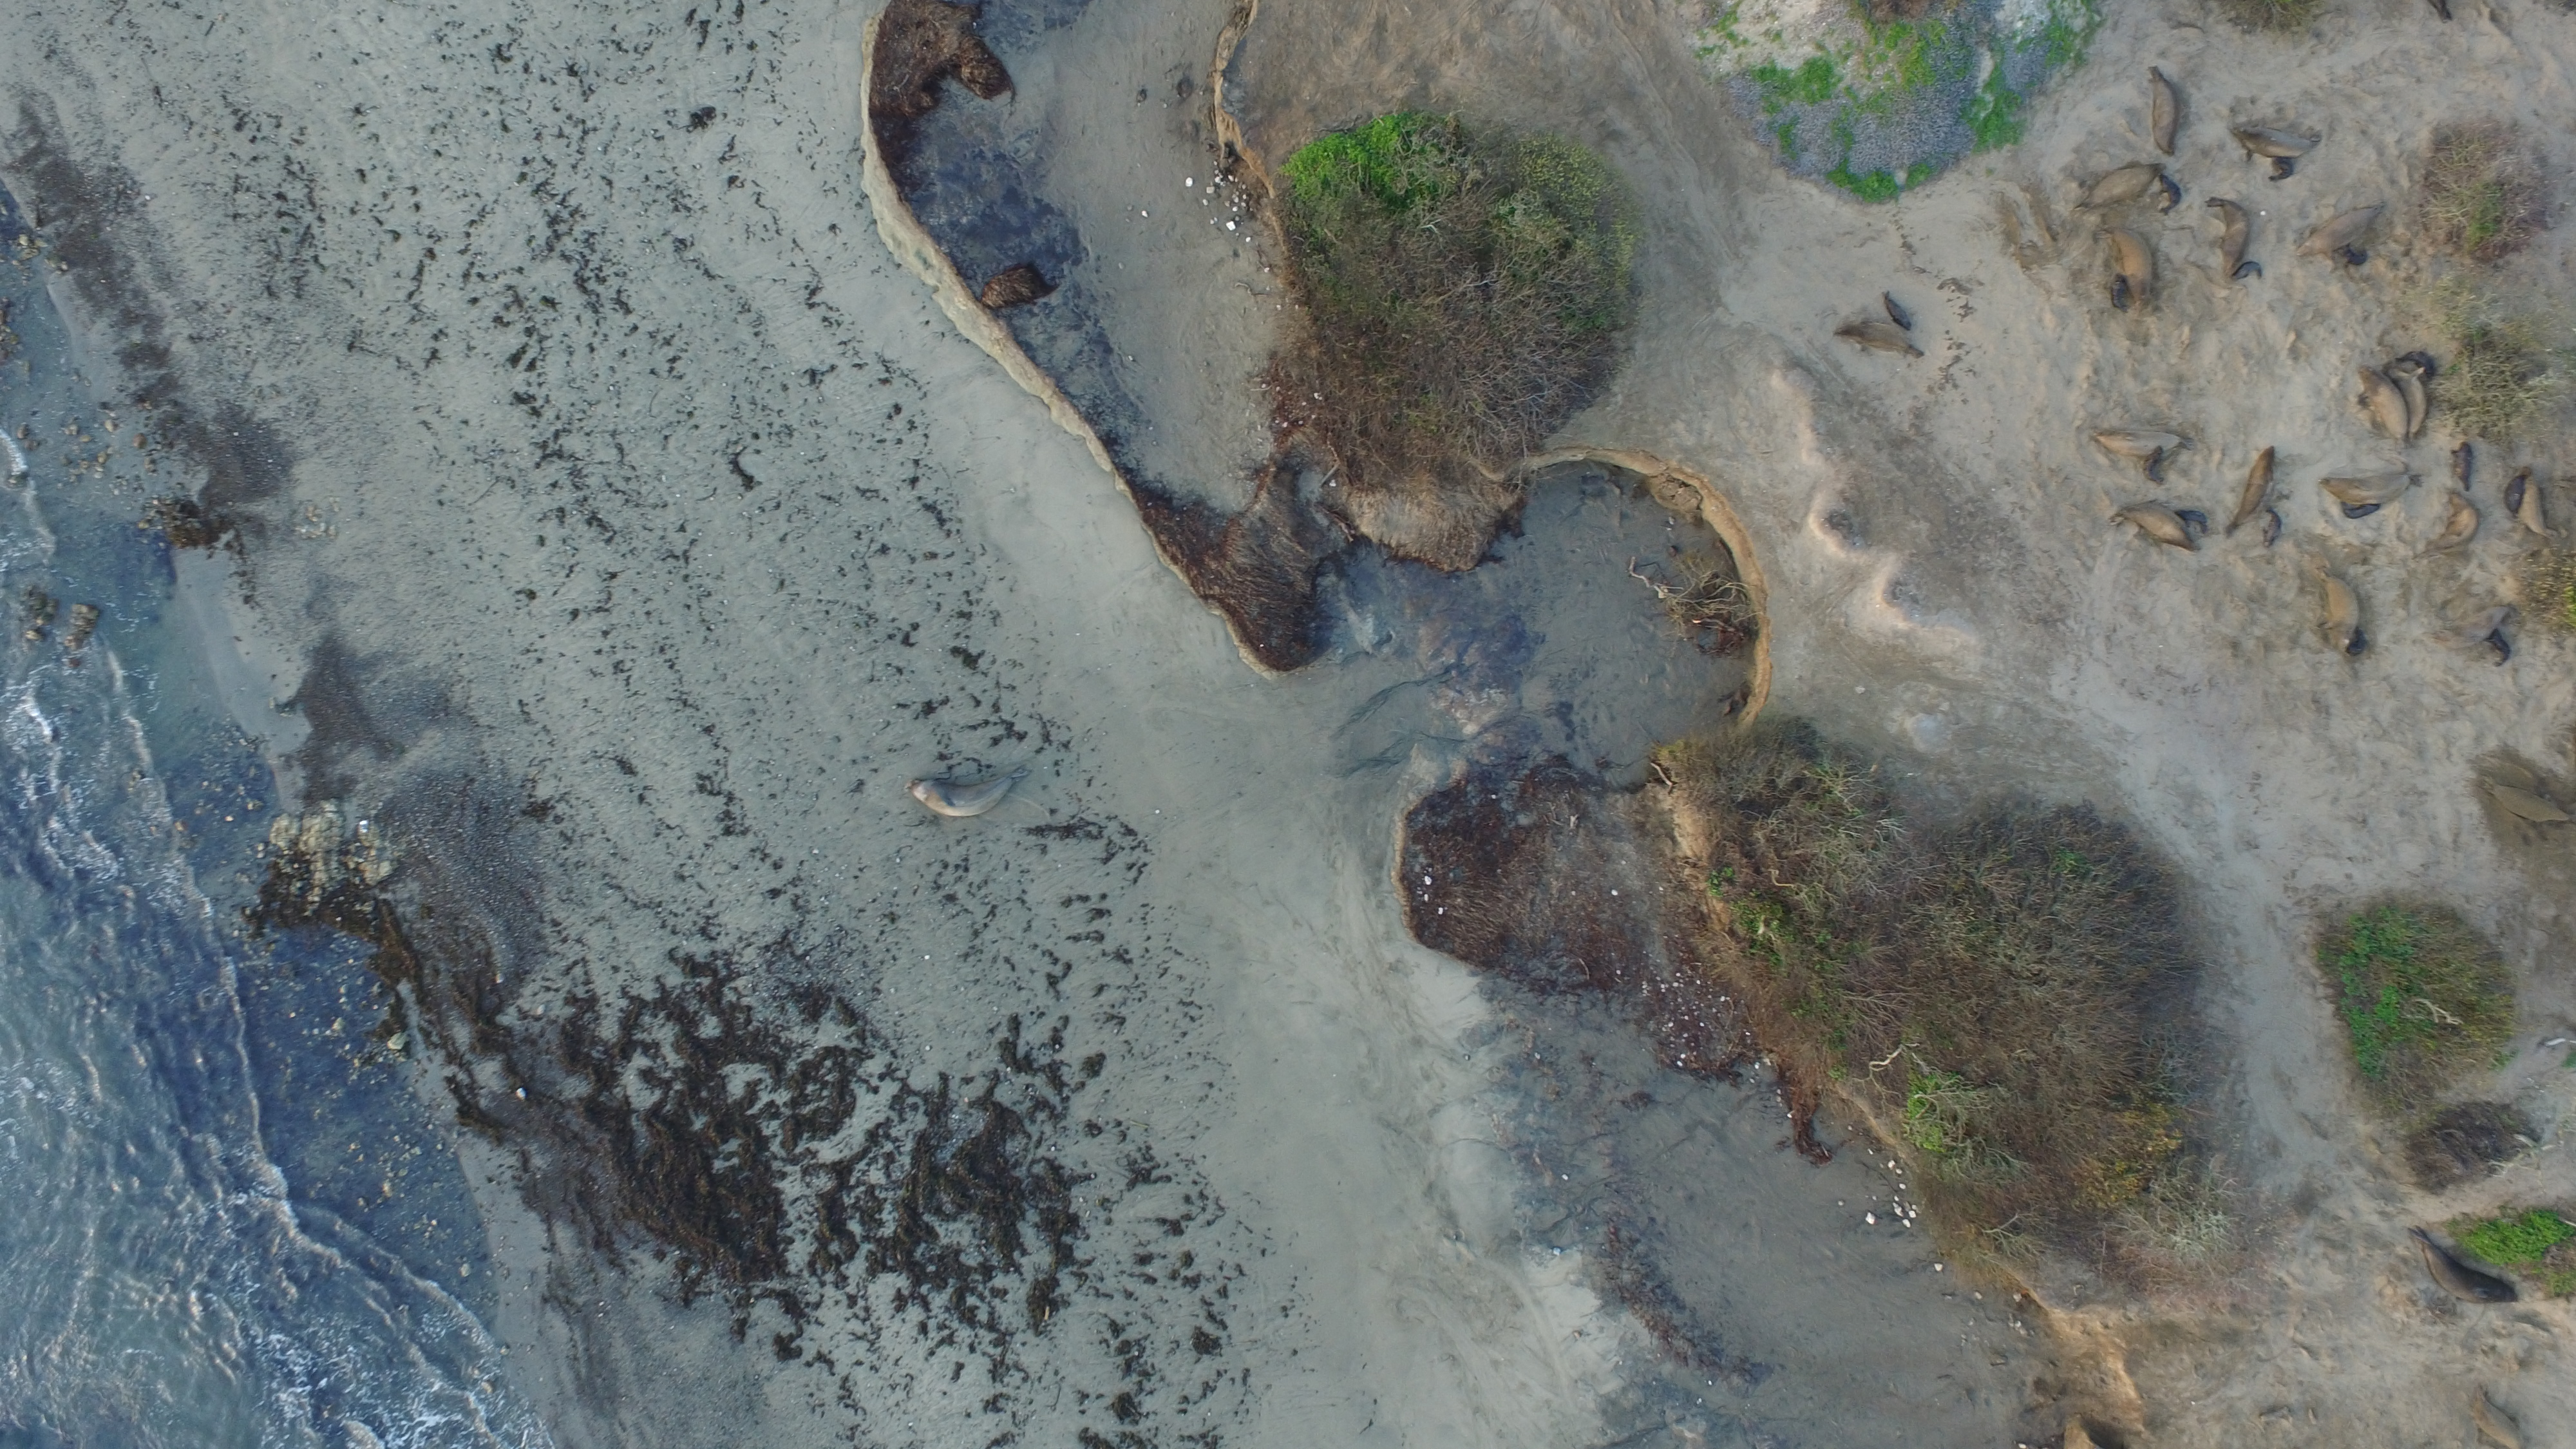adult male: (2404, 1224, 2523, 1318)
male juvenile / female juvenile / adult female: (901, 766, 1030, 826), (2104, 495, 2217, 557), (2351, 363, 2420, 449), (2220, 442, 2284, 534), (2291, 203, 2388, 262), (2100, 225, 2166, 311), (2457, 1378, 2535, 1449), (2307, 568, 2367, 658), (2419, 603, 2514, 660), (2077, 159, 2166, 216), (2376, 363, 2434, 444), (2316, 465, 2422, 510), (2139, 65, 2185, 161), (1831, 318, 1930, 363), (2203, 196, 2254, 280), (2222, 126, 2328, 165), (2431, 488, 2486, 557), (2086, 428, 2192, 460), (2512, 474, 2557, 547)
pup: (2392, 347, 2445, 382), (1879, 294, 1925, 334), (2447, 439, 2479, 495), (2137, 446, 2176, 492), (2498, 467, 2530, 522), (2256, 508, 2289, 554), (2151, 173, 2187, 216), (2169, 508, 2217, 538), (2482, 628, 2514, 672), (2334, 499, 2387, 524), (2341, 625, 2373, 665), (2334, 241, 2373, 271), (2105, 274, 2134, 315), (2226, 260, 2268, 283), (2266, 156, 2298, 184)
